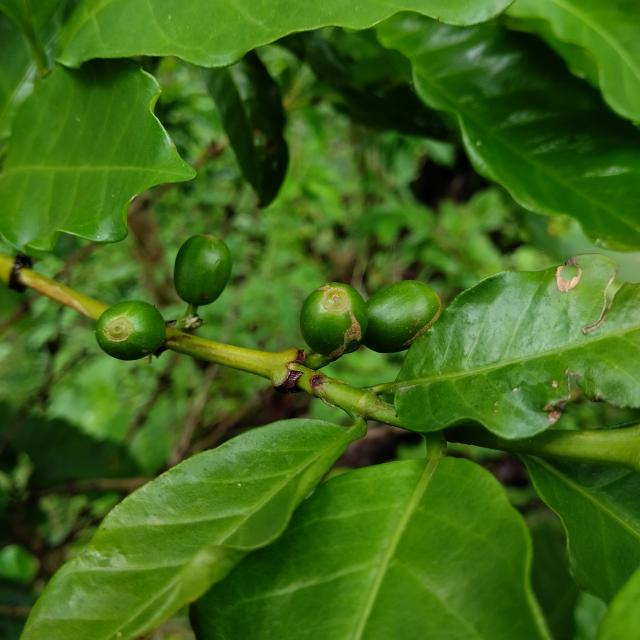green: (300, 282, 368, 360), (174, 233, 232, 307), (95, 301, 165, 361)
